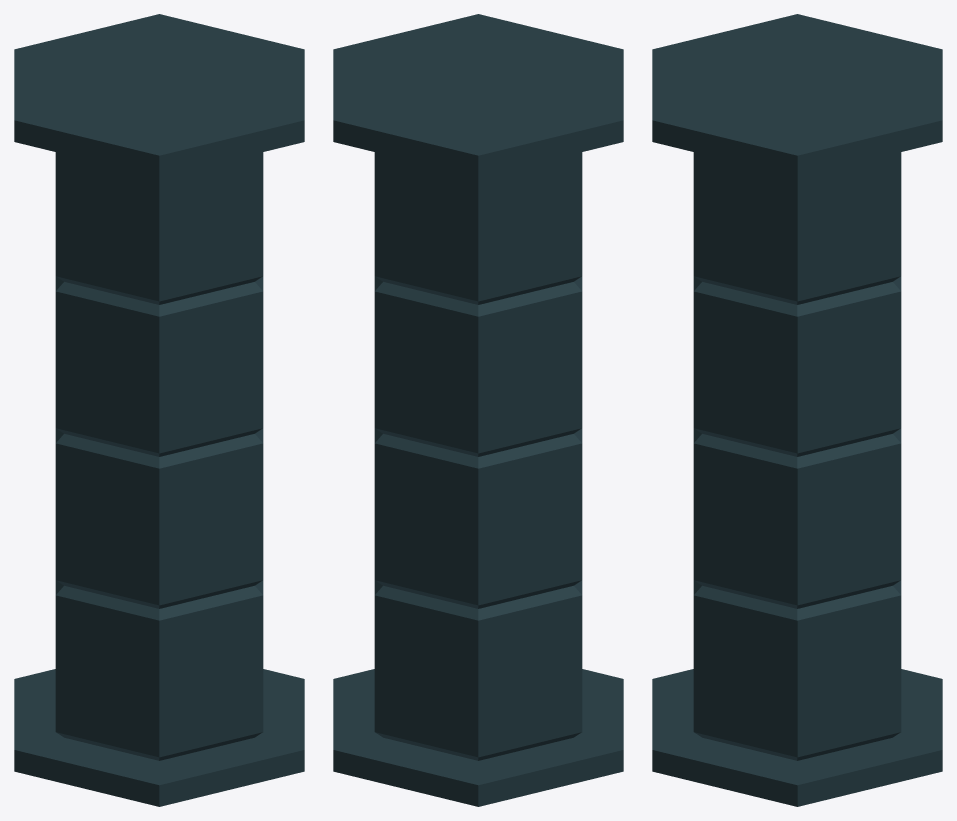
Rendered from column-water-01.fbx.
The picture shows the model from 3 angles, left to right: view 1: azimuth 30°, elevation 25°; view 2: azimuth 150°, elevation 25°; view 3: azimuth 270°, elevation 25°; orthographic projection.
Visible parts, largest first — view 1: pCylinder49, pCylinder45, pCylinder44, pCylinder46, pCylinder47, pCylinder48; view 2: pCylinder49, pCylinder45, pCylinder44, pCylinder46, pCylinder47, pCylinder48; view 3: pCylinder49, pCylinder45, pCylinder44, pCylinder46, pCylinder47, pCylinder48.
Boxes of the visible parts, x1,y1,x2,y2 form: pCylinder49: [14, 14, 304, 177]; pCylinder45: [55, 428, 263, 608]; pCylinder44: [55, 580, 263, 760]; pCylinder46: [55, 276, 263, 456]; pCylinder47: [55, 152, 263, 304]; pCylinder48: [14, 669, 304, 806]; pCylinder49: [333, 14, 623, 177]; pCylinder45: [374, 428, 582, 608]; pCylinder44: [374, 580, 582, 760]; pCylinder46: [374, 276, 582, 456]; pCylinder47: [374, 152, 582, 304]; pCylinder48: [333, 669, 623, 806]; pCylinder49: [652, 14, 942, 177]; pCylinder45: [693, 428, 901, 608]; pCylinder44: [693, 580, 901, 760]; pCylinder46: [693, 276, 901, 456]; pCylinder47: [693, 152, 901, 304]; pCylinder48: [652, 669, 942, 806].
Size of the model in its own units: 2.8 by 6 by 2.42.
